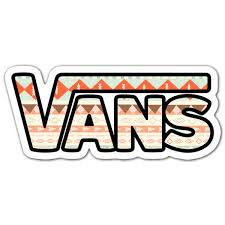vans: (12, 73, 212, 152)
